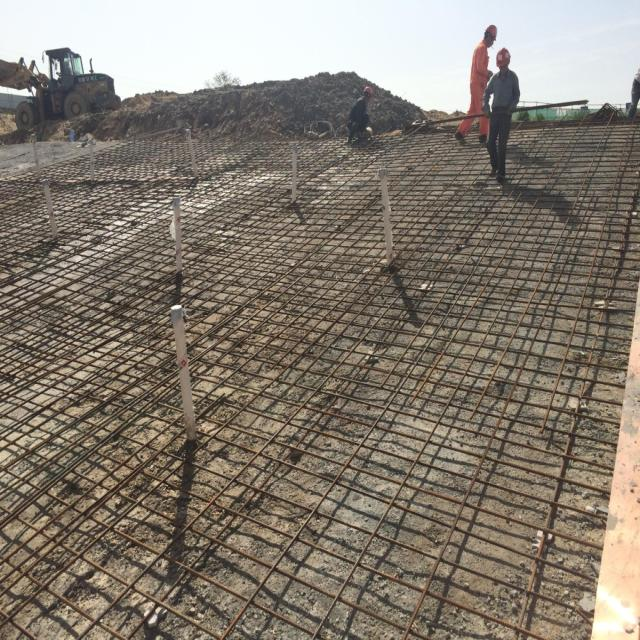machinery: (0, 47, 121, 130)
